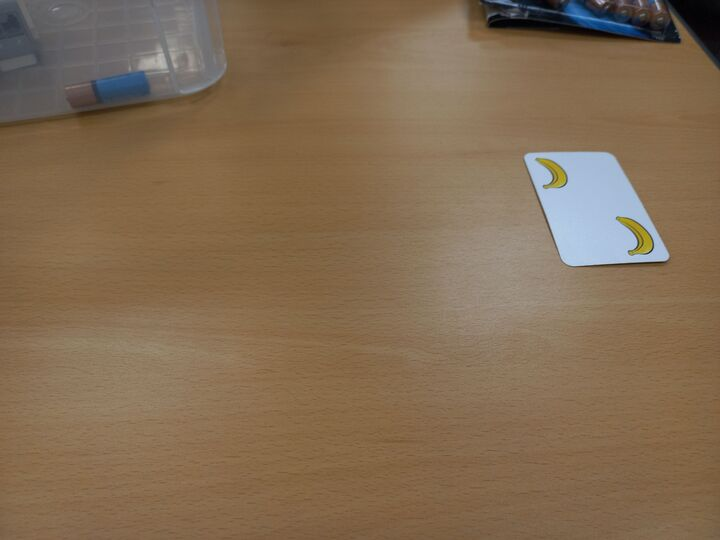banana2: (521, 148, 673, 270)
